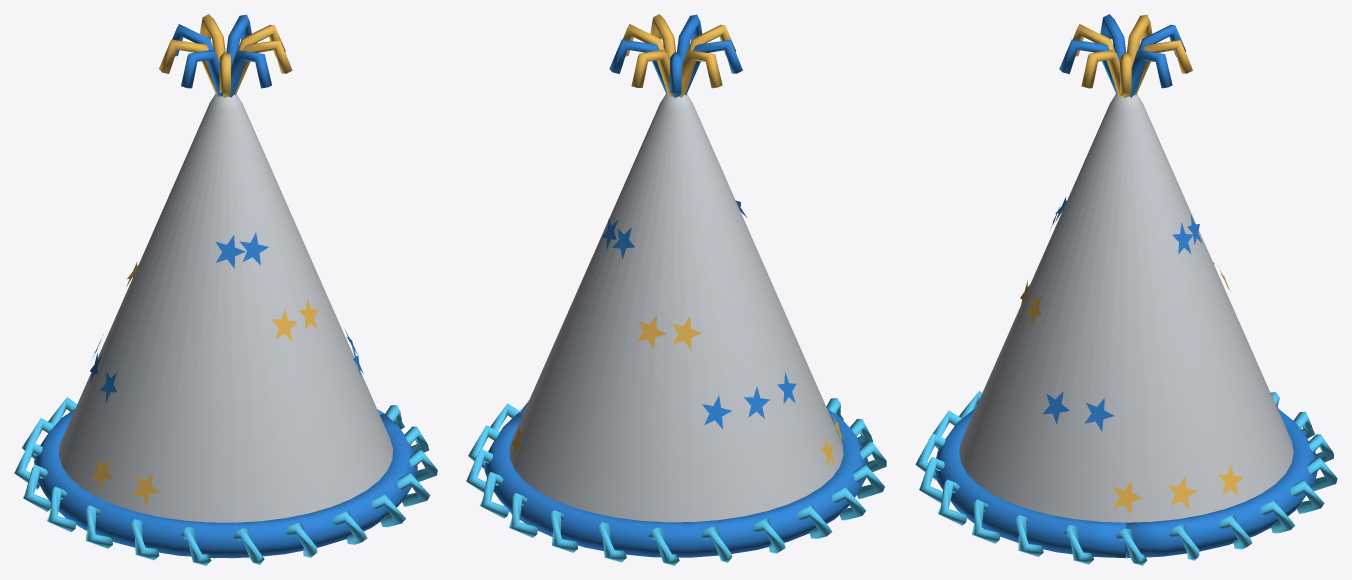
File: birthday-hat.glb
The picture shows the model from 3 angles, left to right: view 1: azimuth 30°, elevation 25°; view 2: azimuth 150°, elevation 25°; view 3: azimuth 270°, elevation 25°; orthographic projection.
Visible parts, largest first — view 1: BirthdayHat_Sculpture; view 2: BirthdayHat_Sculpture; view 3: BirthdayHat_Sculpture.
Boxes of the visible parts, box(x1,y1,x2,y2) form: BirthdayHat_Sculpture: box(14, 14, 437, 565); BirthdayHat_Sculpture: box(466, 14, 886, 565); BirthdayHat_Sculpture: box(915, 14, 1337, 565).
Bounding box in the file's own units: 0.299 × 0.3537 × 0.2988.
